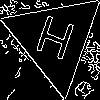H: (30, 14, 77, 70)
